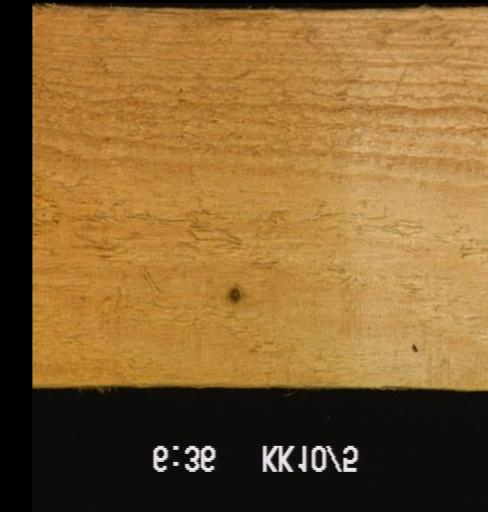small_knot: (224, 280, 243, 309), (405, 339, 420, 358)
